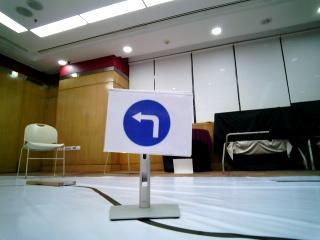left: (106, 90, 193, 156)
